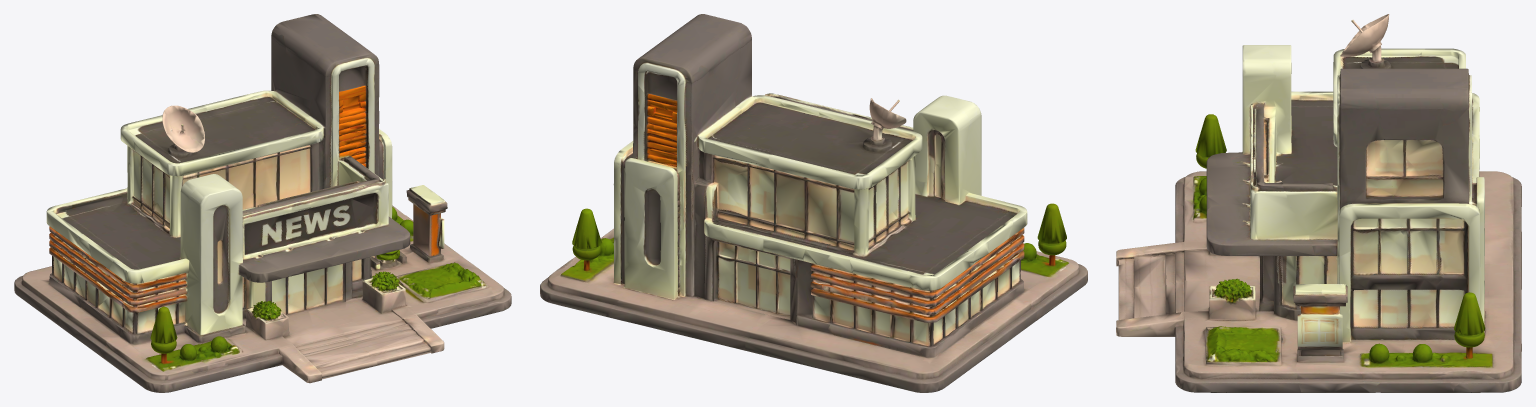
File: news-headquarters.glb
The picture shows the model from 3 angles, left to right: view 1: azimuth 30°, elevation 25°; view 2: azimuth 150°, elevation 25°; view 3: azimuth 270°, elevation 25°; orthographic projection. The views are drawn at different scales.
Bounding box in the file's own units: 1.9 × 1.11 × 1.56.
Materials: 1 (1 with a texture image).
